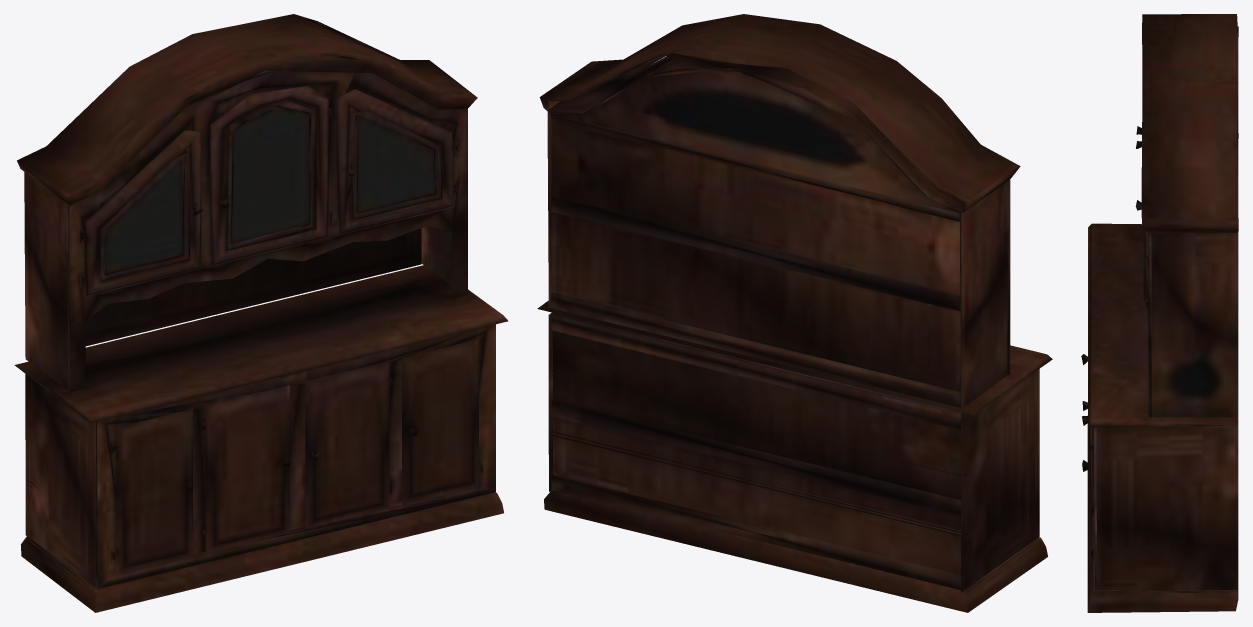
Rendered from vcabinet.glb.
The picture shows the model from 3 angles, left to right: view 1: azimuth 30°, elevation 25°; view 2: azimuth 150°, elevation 25°; view 3: azimuth 270°, elevation 25°; orthographic projection. The views are drawn at different scales.
Visible parts, largest first — view 1: lo; view 2: lo; view 3: lo.
Boxes of the visible parts, x1,y1,x2,y2 form: lo: [14, 14, 508, 612]; lo: [537, 14, 1052, 612]; lo: [1081, 14, 1238, 612].
Size of the model in its own units: 2.02 by 2.23 by 0.6678.
Materials: 1 (1 with a texture image).
